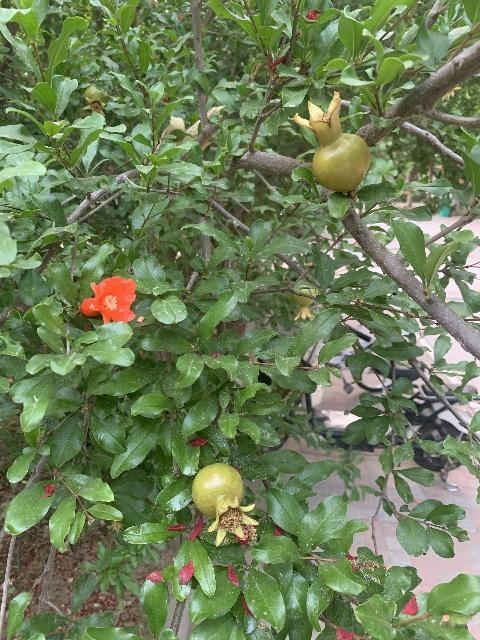flower: (79, 276, 137, 324)
mid-growth: (292, 90, 368, 191), (190, 463, 257, 546), (82, 84, 110, 116), (290, 287, 317, 320)
